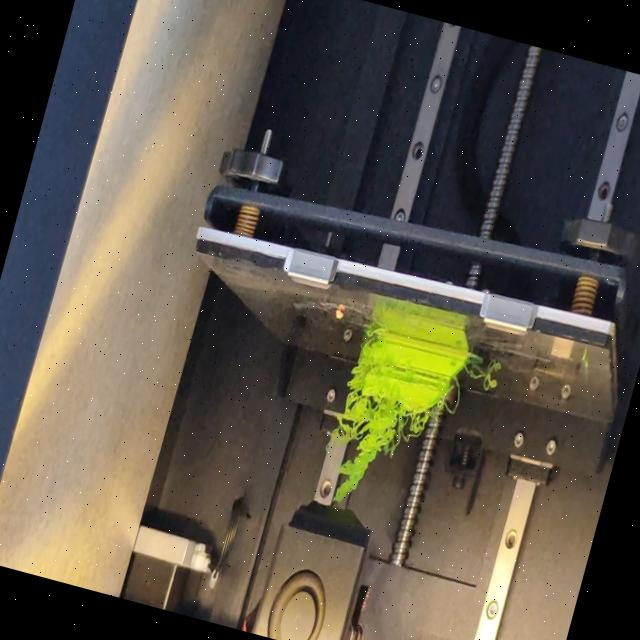spaghetti: (318, 394, 429, 517), (342, 321, 380, 394), (436, 376, 466, 421), (460, 364, 499, 392)
